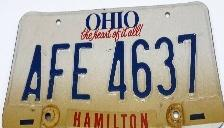3: (153, 34, 179, 97)
4: (106, 39, 129, 102)
6: (130, 36, 153, 100)
7: (174, 31, 202, 99)
A: (20, 44, 44, 102)
F: (42, 42, 72, 99), (69, 41, 95, 100)
